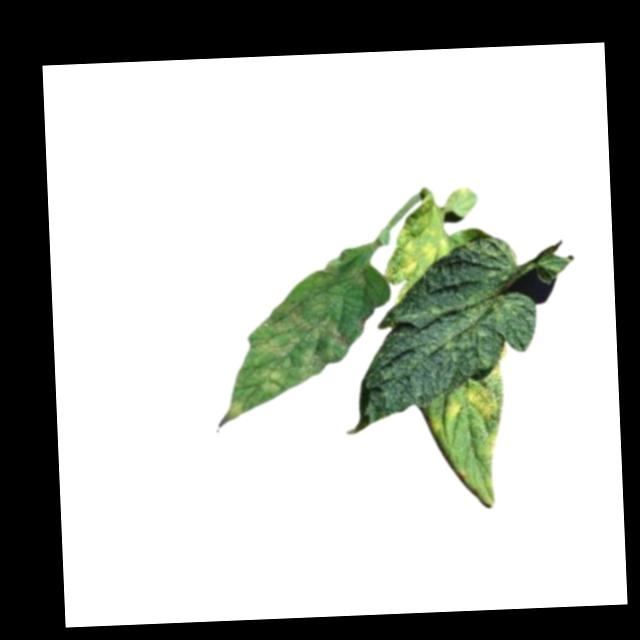Leaf_Mold: (215, 249, 358, 430), (385, 205, 453, 300), (443, 379, 503, 424), (473, 431, 501, 460), (428, 417, 444, 439)
